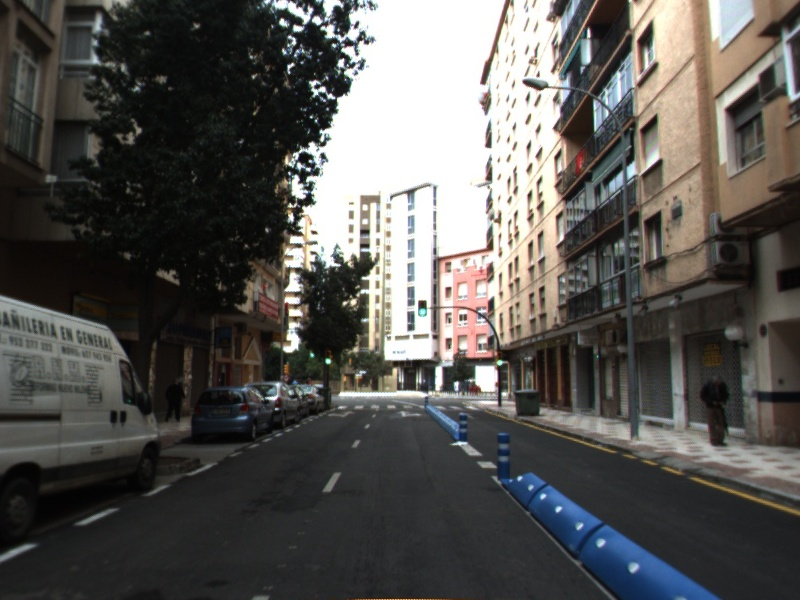STRAIGHT_LEFT: (326, 409, 357, 419)
STRAIGHT_RIGHT: (395, 409, 424, 419)
